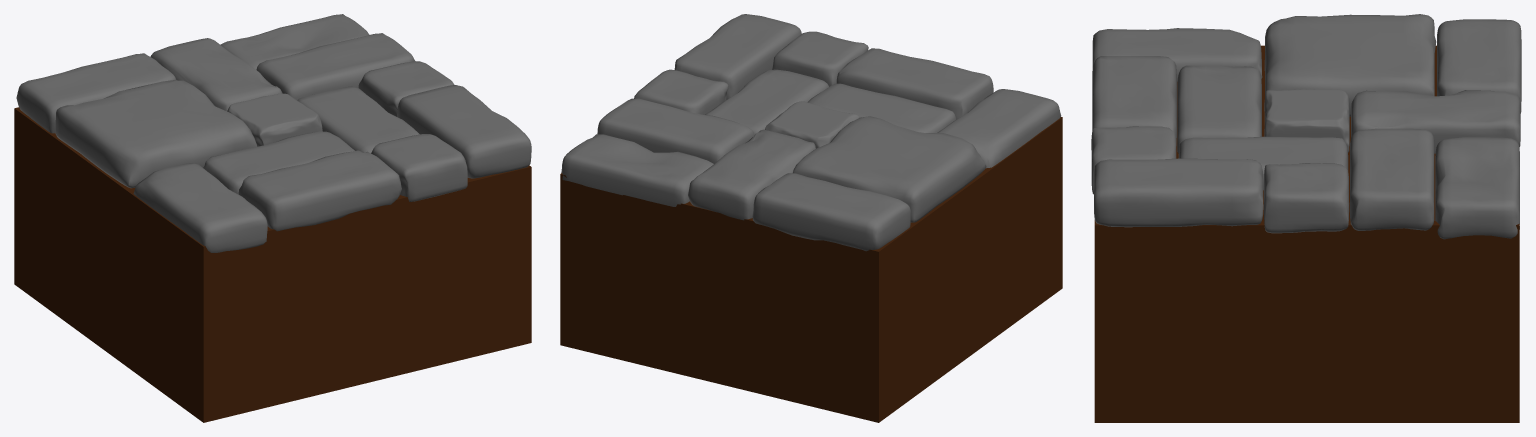
The model's file is floor_crack_block.fbx.
3 renders of one model, left to right at view 1: azimuth 30°, elevation 25°; view 2: azimuth 150°, elevation 25°; view 3: azimuth 270°, elevation 25°, orthographic. The views are drawn at different scales.
Visible parts, largest first — view 1: ground.001, block2, block1.003, block1.001, block1.008, block1.006, block1, block1.004, block3_001.001, block1.007, block1.002, block1.005 (+2 smaller); view 2: ground.001, block2, block1, block1.005, block1.003, block1.004, block1.006, block1.008, block1.001, block1.007, block1.002, block3_001.001 (+2 smaller); view 3: ground.001, block2, block1.008, block1.006, block1.005, block1.004, block1, block1.002, block1.003, block3_003.001, block1.001, block1.007 (+2 smaller).
Part boxes in pixels (<box>): ground.001: <box>14,107,531,422</box>; block2: <box>55,80,256,188</box>; block1.003: <box>238,150,401,231</box>; block1.001: <box>133,163,267,252</box>; block1.008: <box>397,85,531,178</box>; block1.006: <box>256,33,415,99</box>; block1: <box>16,53,176,133</box>; block1.004: <box>150,38,282,111</box>; block3_001.001: <box>371,134,467,201</box>; block1.007: <box>297,86,419,153</box>; block1.002: <box>203,131,354,194</box>; block1.005: <box>220,14,369,69</box>; ground.001: <box>560,117,1062,422</box>; block2: <box>793,116,986,222</box>; block1: <box>752,173,910,251</box>; block1.005: <box>561,134,713,206</box>; block1.003: <box>836,48,993,119</box>; block1.004: <box>688,129,815,220</box>; block1.006: <box>597,98,754,163</box>; block1.008: <box>674,14,801,99</box>; block1.001: <box>937,89,1061,168</box>; block1.007: <box>705,69,828,134</box>; block1.002: <box>807,83,956,132</box>; block3_001.001: <box>772,31,868,86</box>; ground.001: <box>1094,45,1519,422</box>; block2: <box>1264,14,1436,116</box>; block1.008: <box>1094,158,1263,227</box>; block1.006: <box>1349,128,1434,230</box>; block1.005: <box>1435,137,1519,239</box>; block1.004: <box>1351,90,1520,153</box>; block1: <box>1437,19,1521,113</box>; block1.002: <box>1177,65,1261,153</box>; block1.003: <box>1092,56,1176,145</box>; block3_003.001: <box>1264,163,1348,233</box>; block1.001: <box>1092,28,1262,81</box>; block1.007: <box>1178,136,1348,190</box>.
Size of the model in its own units: 202 by 121 by 202.
